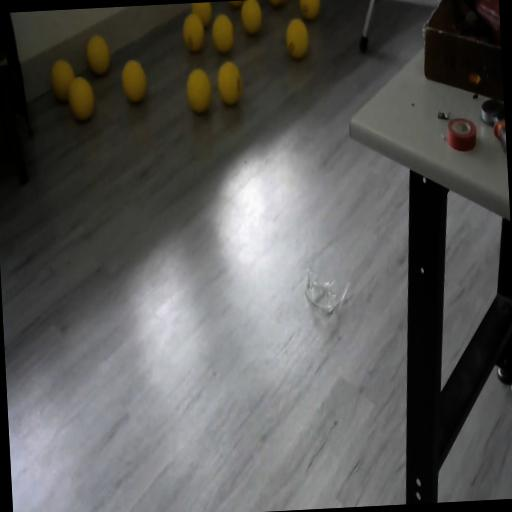FUEL: (184, 66, 214, 114), (66, 74, 96, 122), (120, 57, 148, 104), (216, 60, 243, 108), (84, 32, 112, 76), (284, 16, 310, 60), (210, 12, 236, 54), (239, 0, 263, 35), (191, 2, 214, 29), (298, 0, 320, 20), (229, 0, 245, 9), (268, 0, 287, 7)
